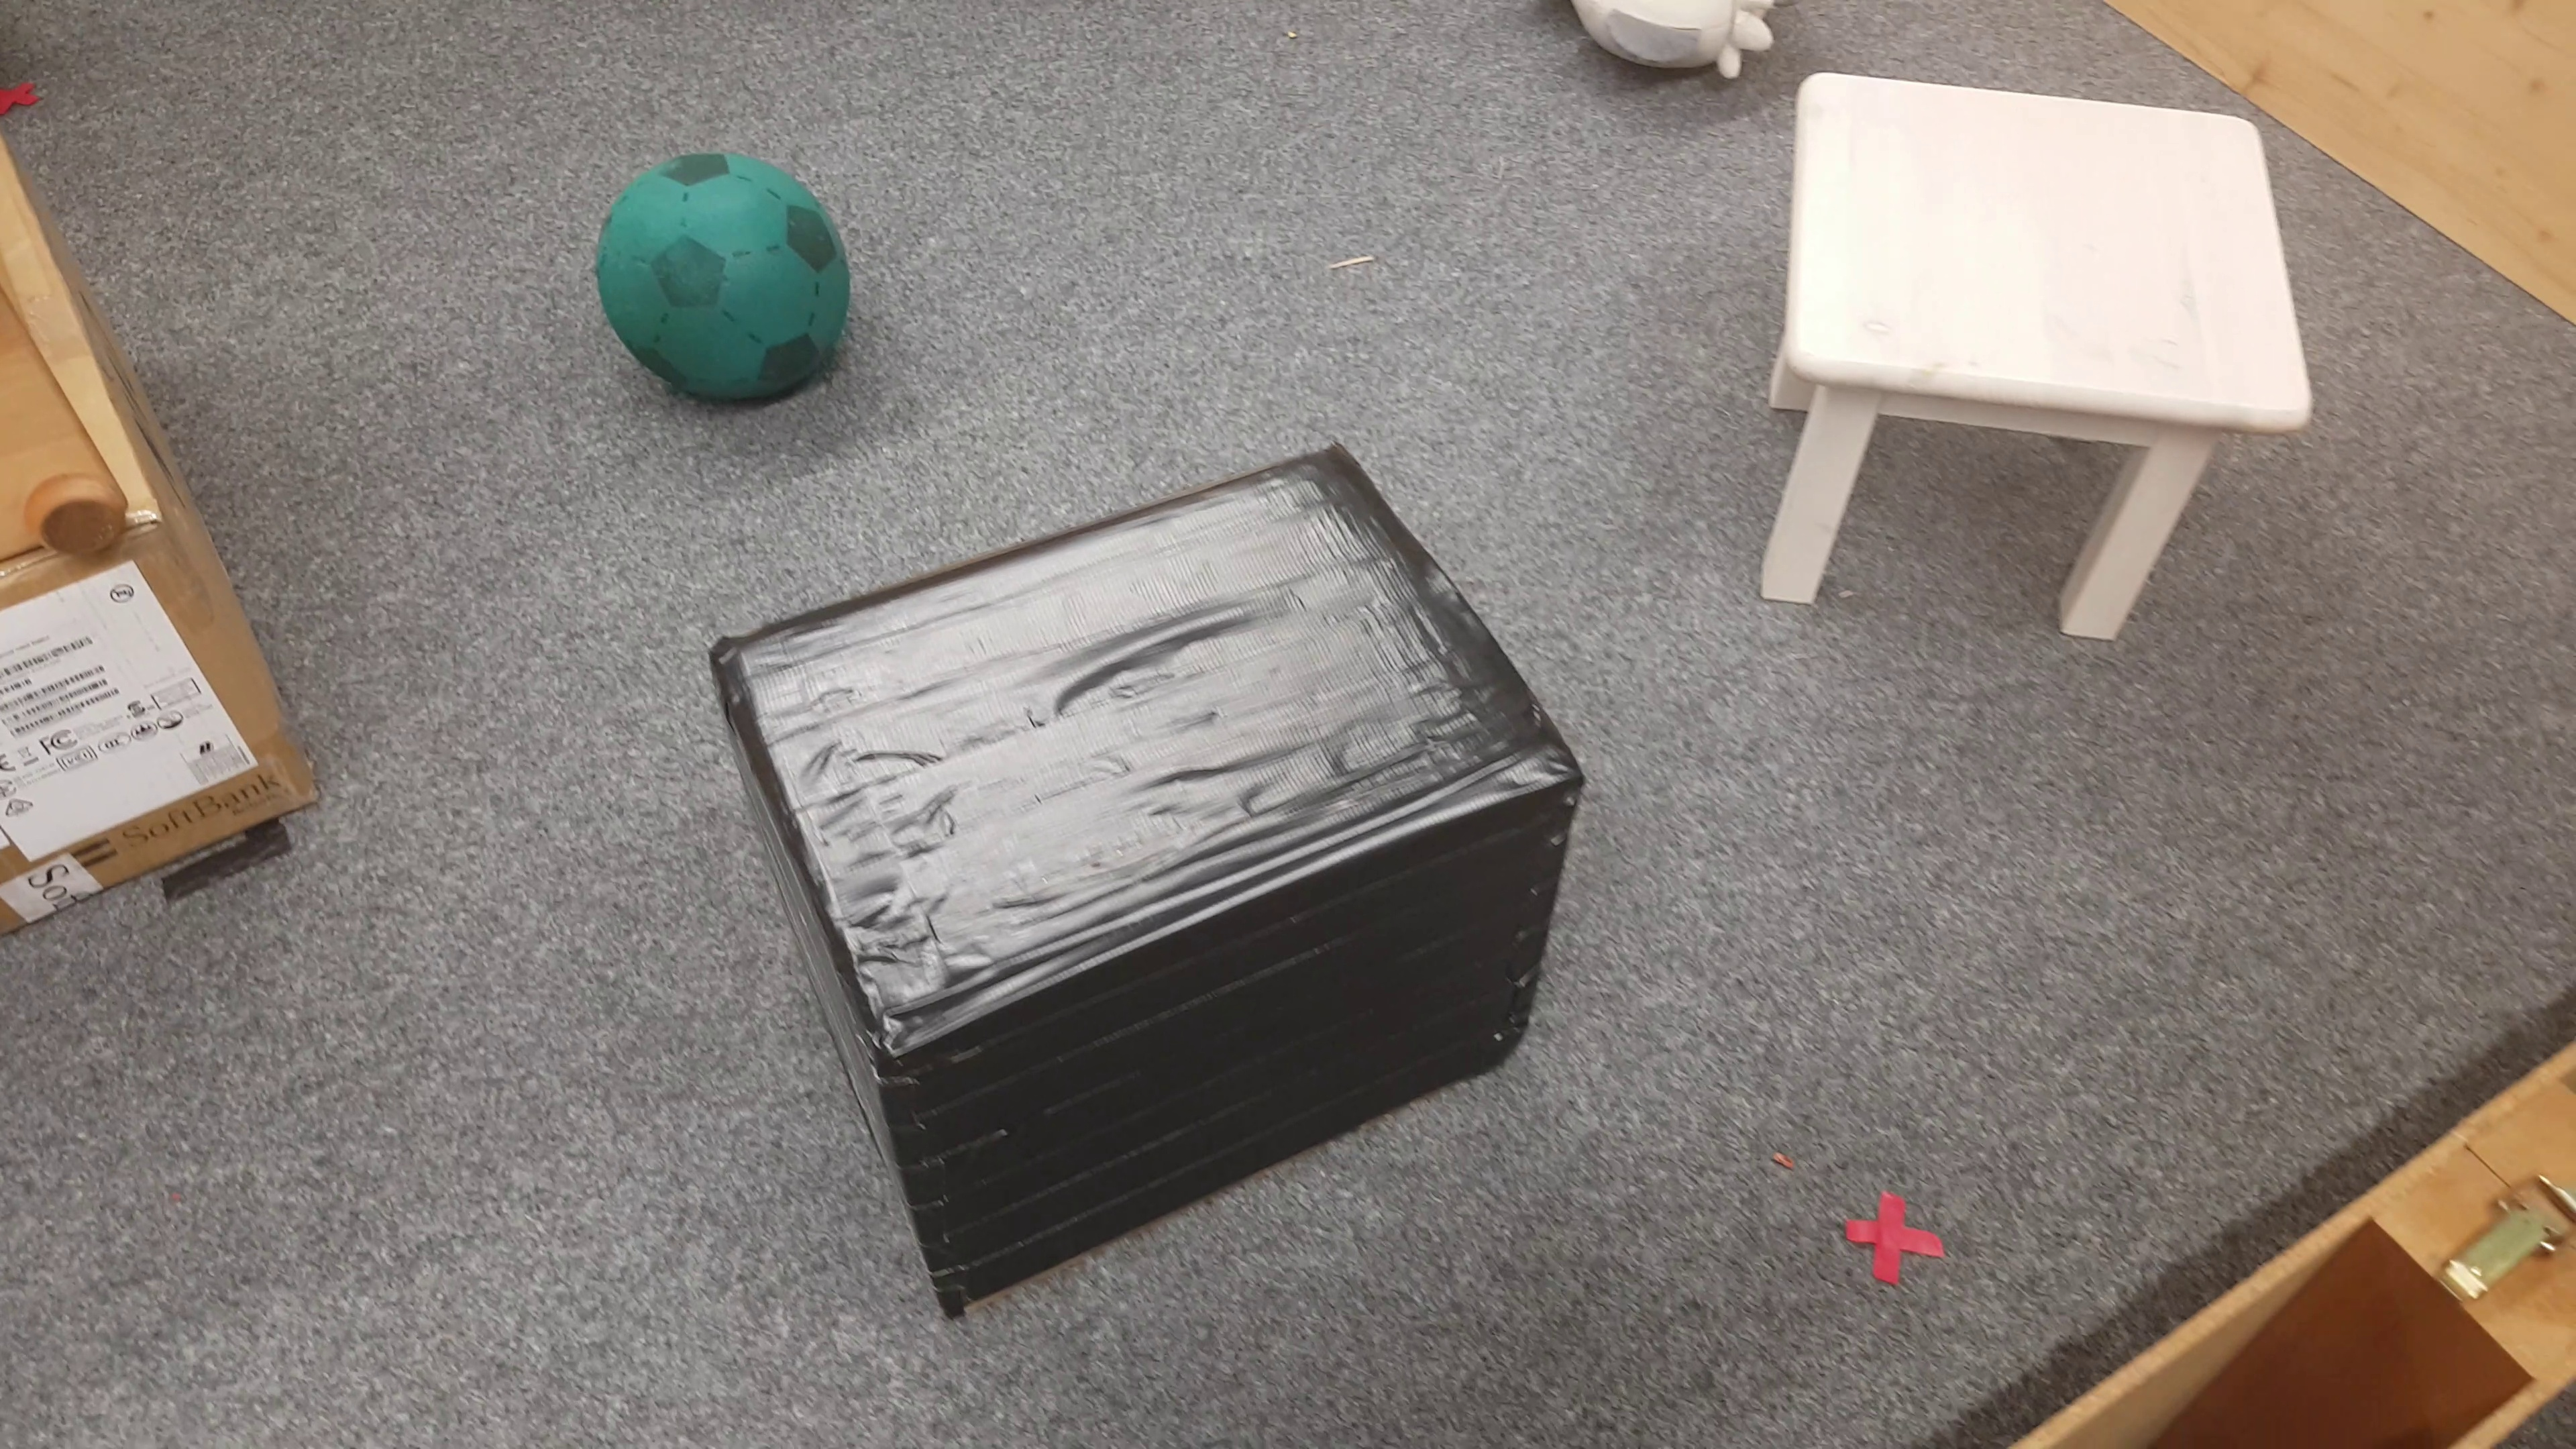grasp: (1564, 12, 1780, 99)
kick: (589, 154, 860, 393)
push: (717, 441, 1591, 1322)
